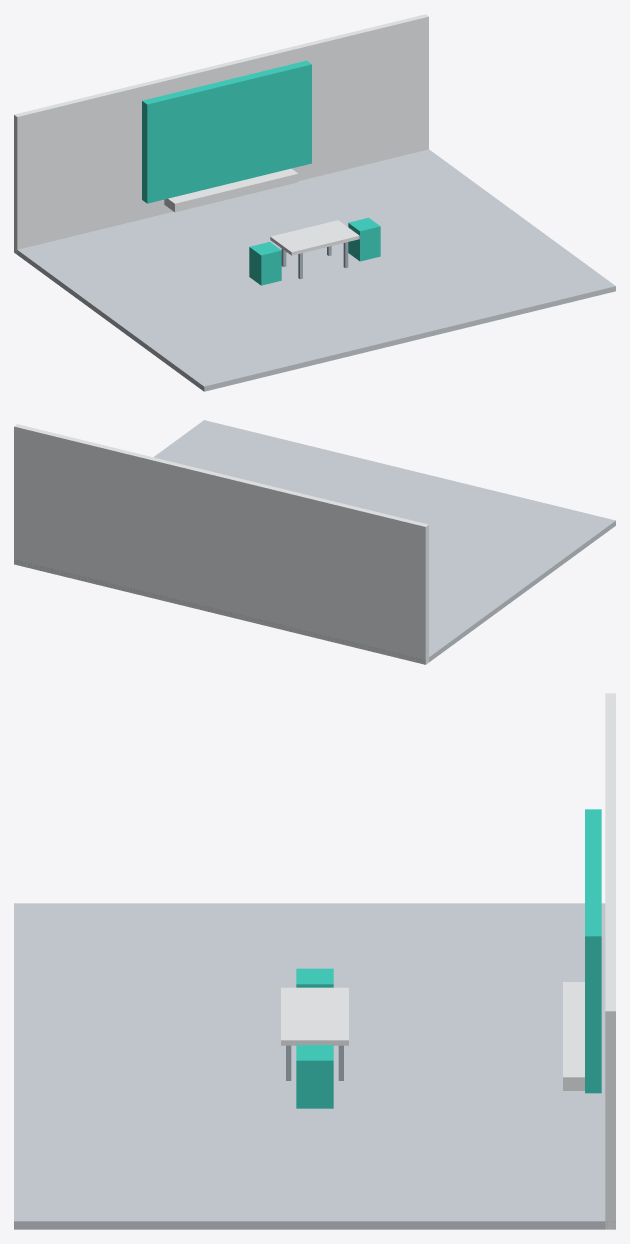
The picture shows the model from 3 angles, top to bottom: view 1: azimuth 30°, elevation 25°; view 2: azimuth 150°, elevation 25°; view 3: azimuth 270°, elevation 25°; orthographic projection. The views are drawn at different scales.
Parts seen in each view (by area): view 1: Exhibition Booth Concept; view 2: Exhibition Booth Concept; view 3: Exhibition Booth Concept.
Boxes of the visible parts, x1,y1,x2,y2 form: Exhibition Booth Concept: (14, 14, 615, 391); Exhibition Booth Concept: (14, 420, 615, 664); Exhibition Booth Concept: (14, 693, 615, 1229).
Size of the model in its own units: 10 by 3.2 by 8.
